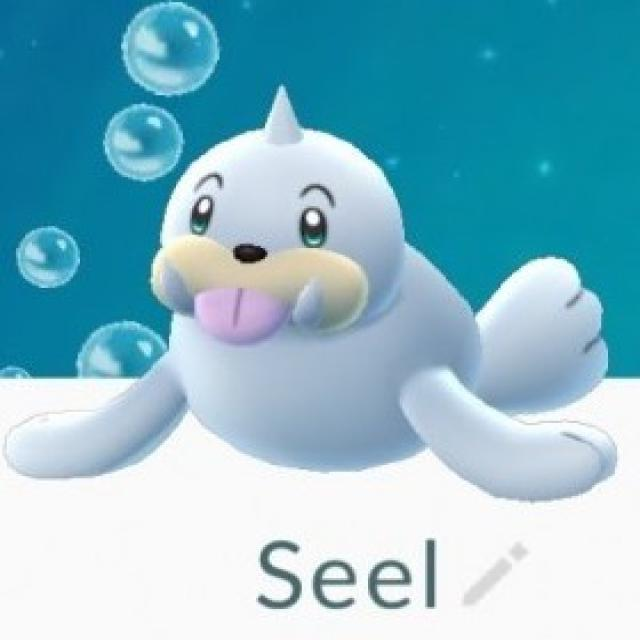Seel: (85, 87, 594, 486)
